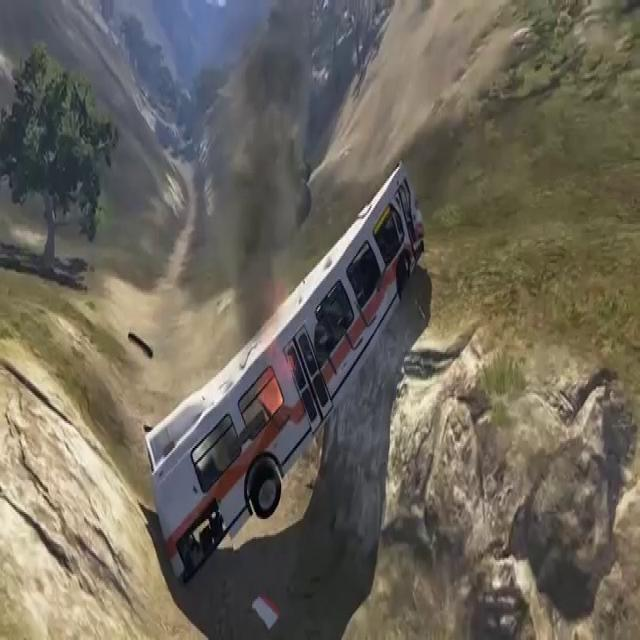moderate: (133, 148, 430, 592)
